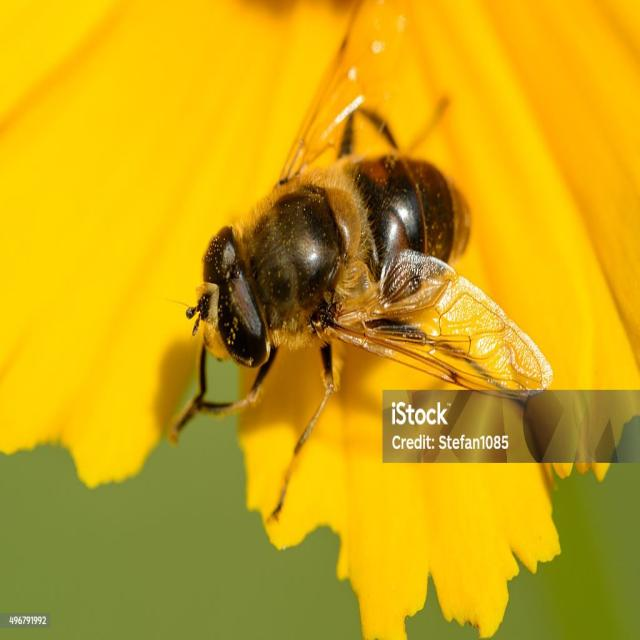hoverfly: (166, 3, 554, 527)
